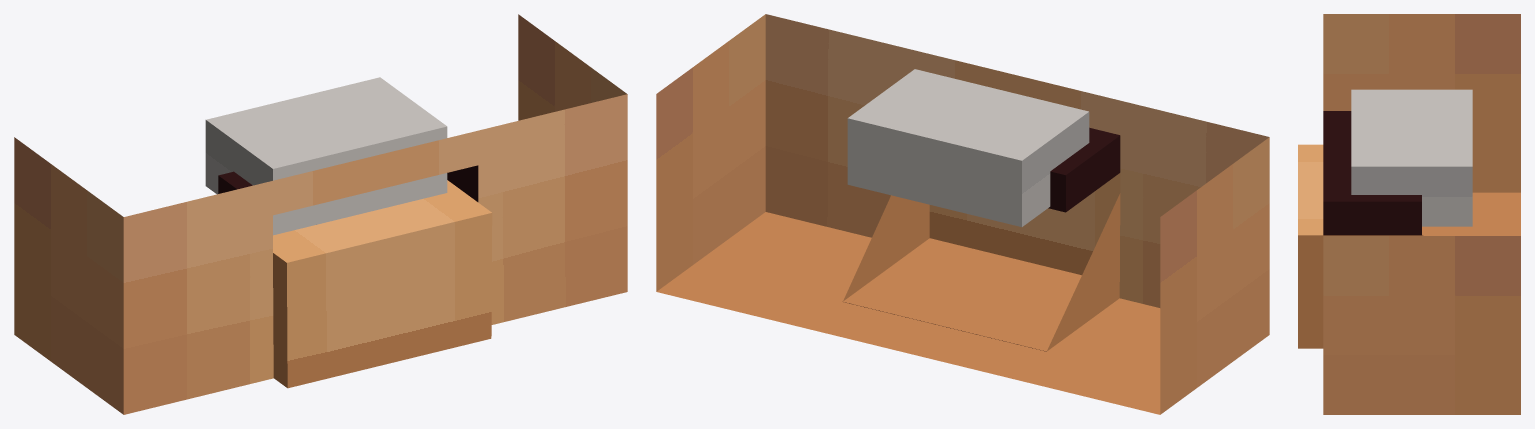
The model's file is skM1_jesse_mouthFV.glb.
3 views of the same model, side by side, from view 1: azimuth 30°, elevation 25°; view 2: azimuth 150°, elevation 25°; view 3: azimuth 270°, elevation 25° (orthographic). The views are drawn at different scales.
Parts seen in each view (by area): view 1: skM1_jesse; view 2: skM1_jesse; view 3: skM1_jesse.
Boxes of the visible parts, x1,y1,x2,y2 form: skM1_jesse: (14,14,627,414); skM1_jesse: (656,14,1269,414); skM1_jesse: (1298,14,1520,414).
Size of the model in its own units: 0.5012 by 0.1883 by 0.2126.
Materials: 1 (1 with a texture image).
